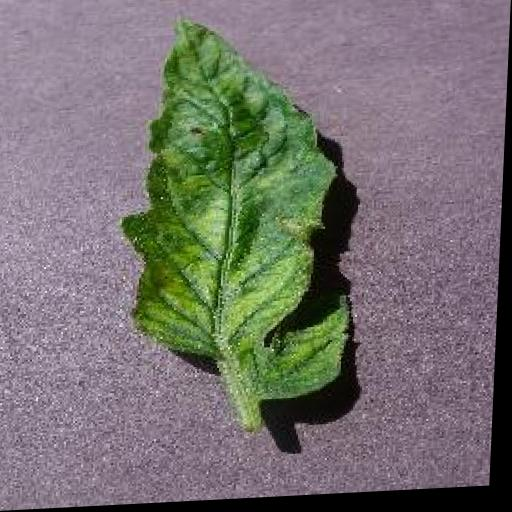Mosaic Virus: (115, 7, 371, 417)
